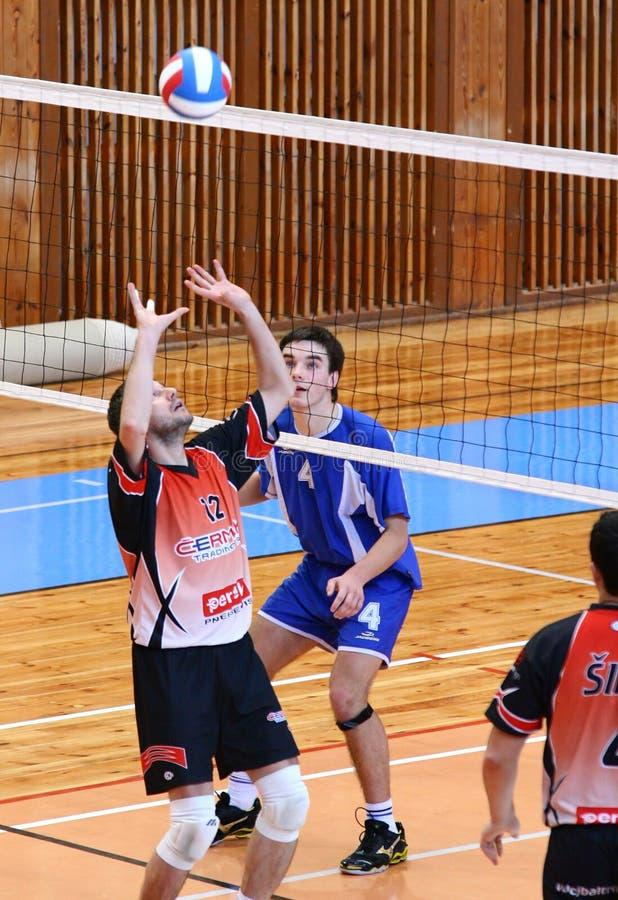ballon_volley: (157, 46, 233, 122)
